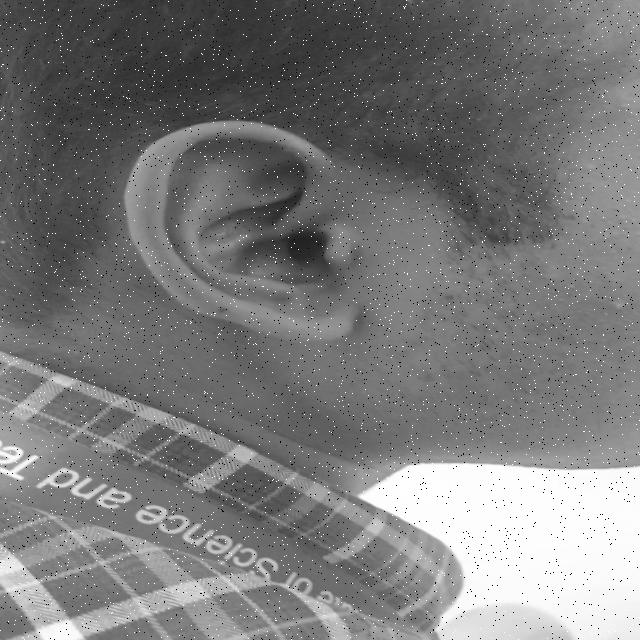ear: (125, 121, 357, 341)
